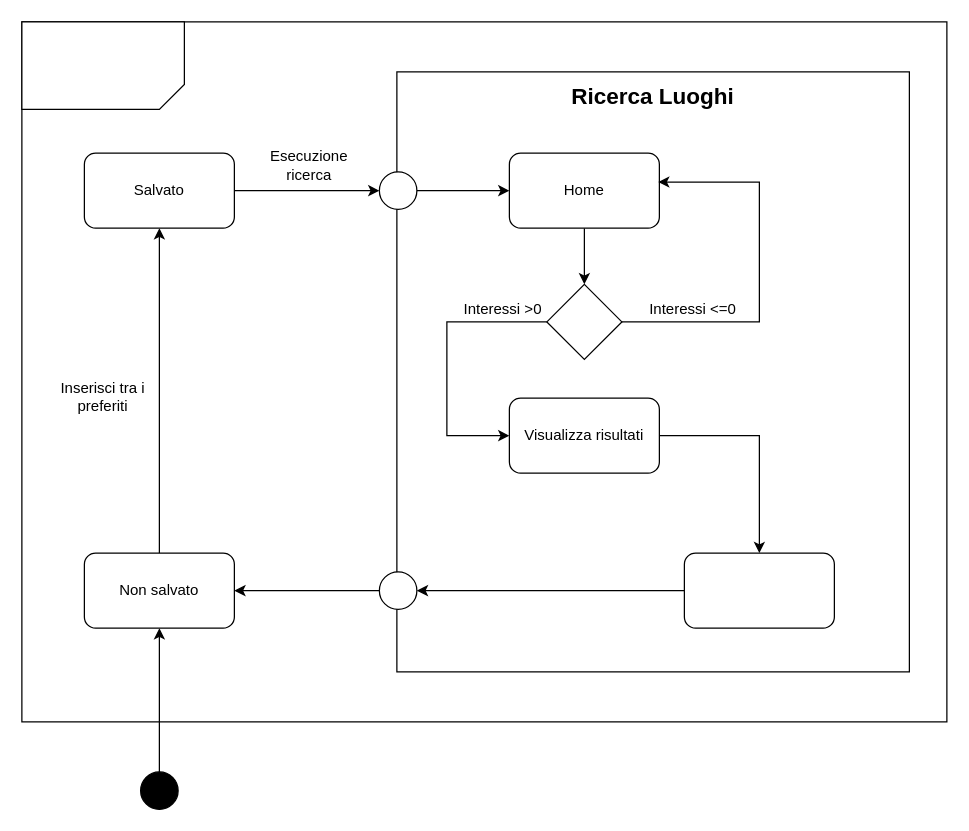
Some shapes in this 969 by 831 pixel diagram are drawn without their labels. The centre of each missing label's shape, as x and y in pixels:
"Luogo" goes at point 102,65.
"Vedi luogo" goes at point 758,590.
